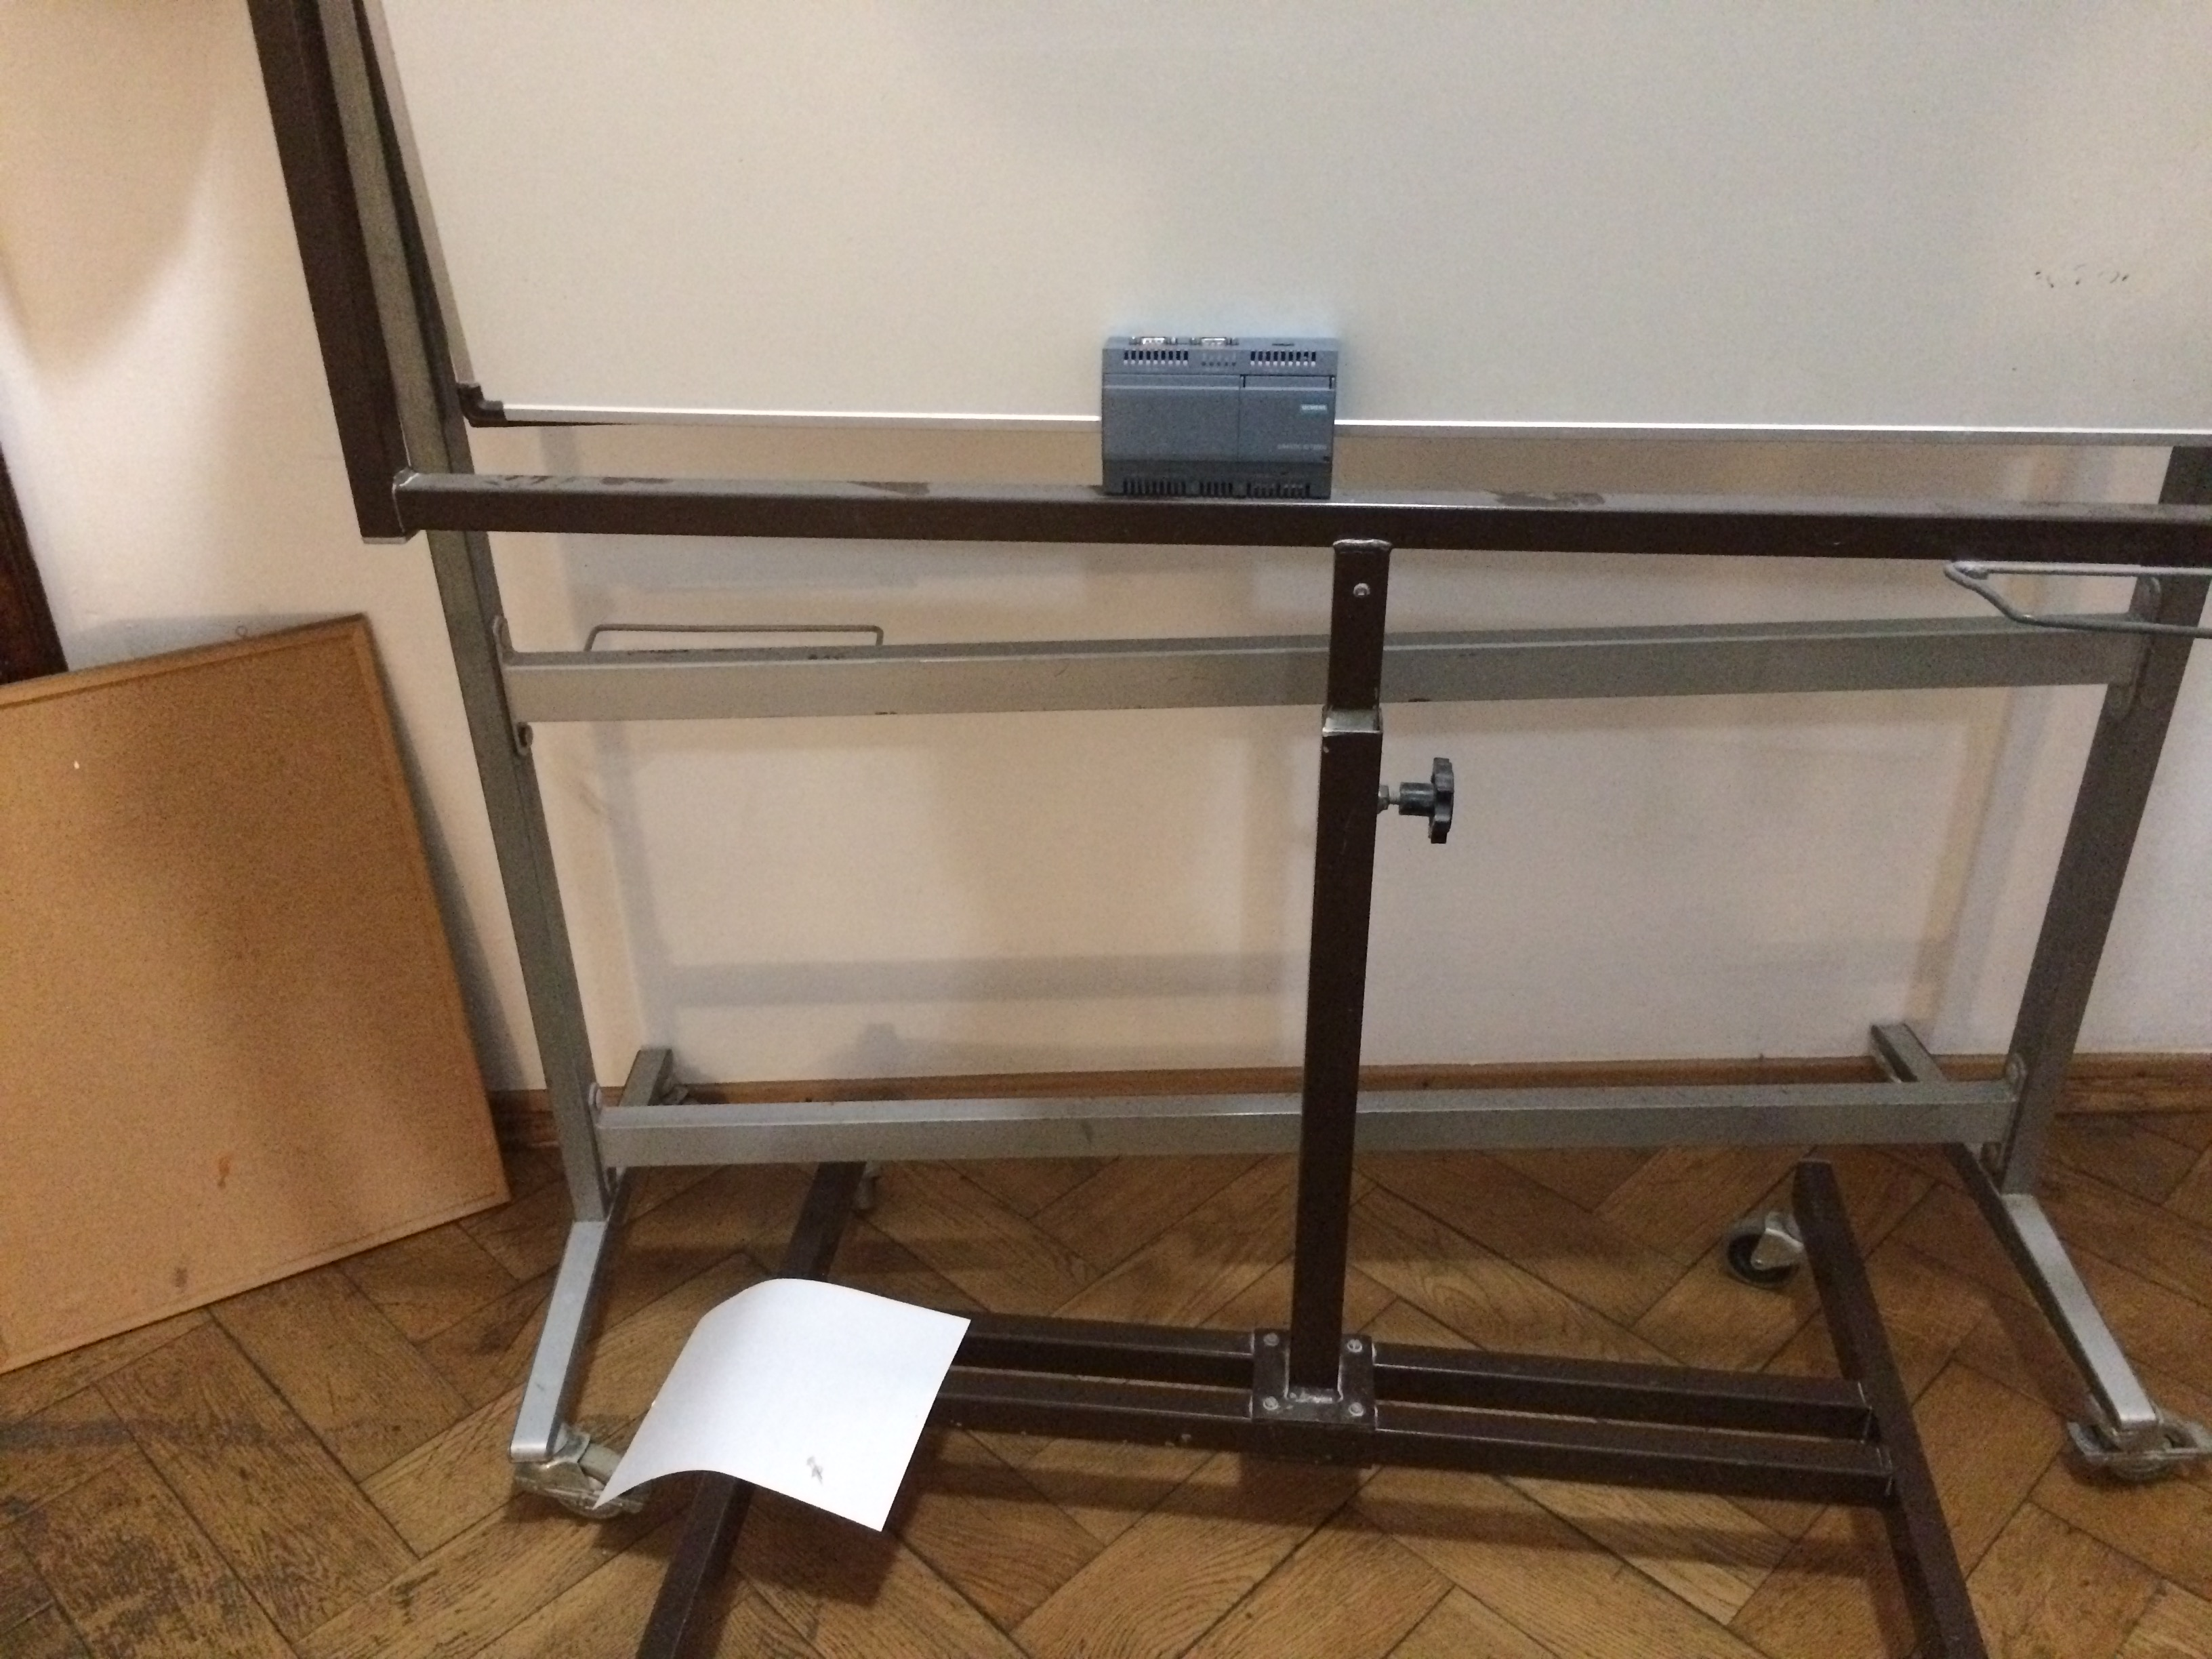iot2000: (1099, 333, 1341, 498)
